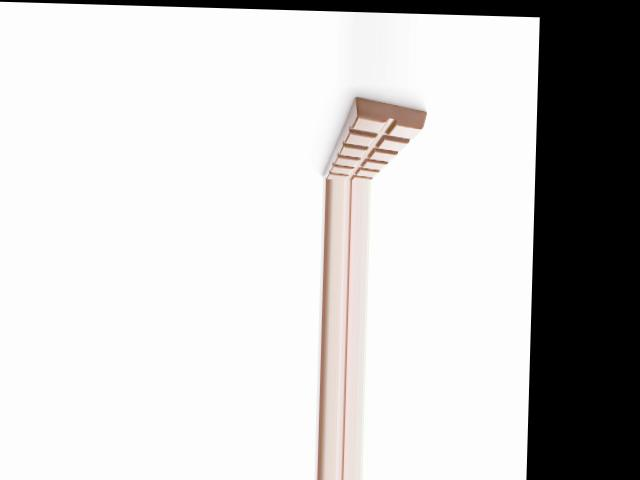chocolate: (316, 93, 428, 181)
